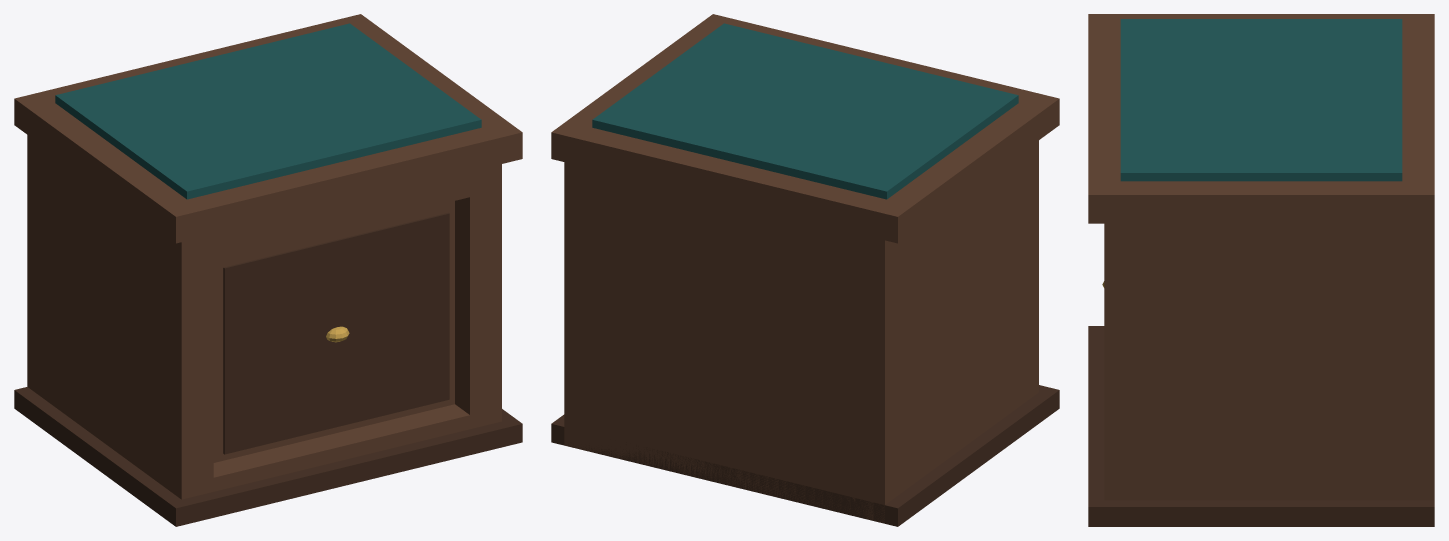
File: cabinetBed.glb
3 renders of one model, left to right at view 1: azimuth 30°, elevation 25°; view 2: azimuth 150°, elevation 25°; view 3: azimuth 270°, elevation 25°, orthographic. The views are drawn at different scales.
Parts seen in each view (by area): view 1: cabinetBed(Clone), door; view 2: cabinetBed(Clone); view 3: cabinetBed(Clone).
Boxes of the visible parts, x1,y1,x2,y2 form: cabinetBed(Clone): (14, 14, 522, 526); door: (213, 201, 454, 462); cabinetBed(Clone): (551, 14, 1059, 526); cabinetBed(Clone): (1088, 14, 1434, 526).
Size of the model in its own units: 0.266 by 0.2332 by 0.215.
